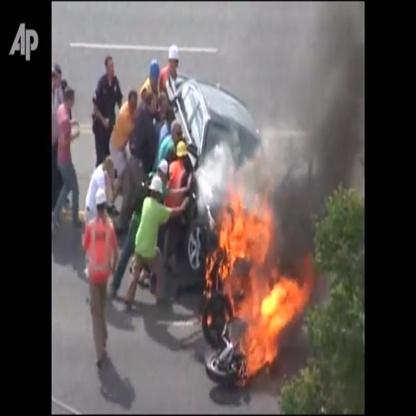Fire: (218, 192, 304, 376)
